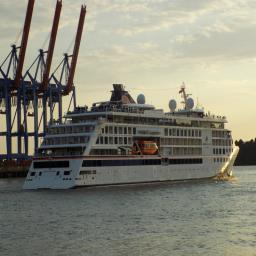cruises: (21, 82, 241, 194)
